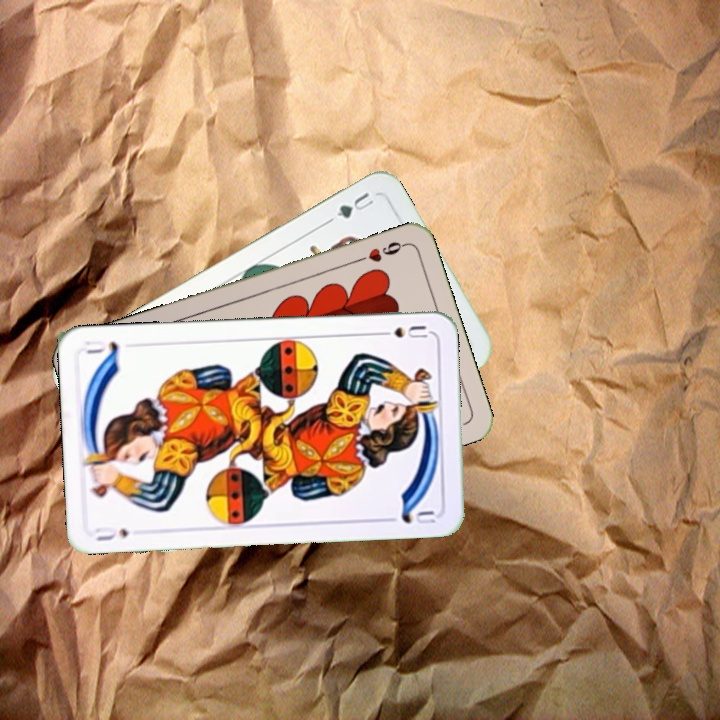GU: (332, 188, 377, 221)
H9: (351, 237, 408, 265)
SU: (372, 321, 430, 341), (91, 522, 132, 544)
